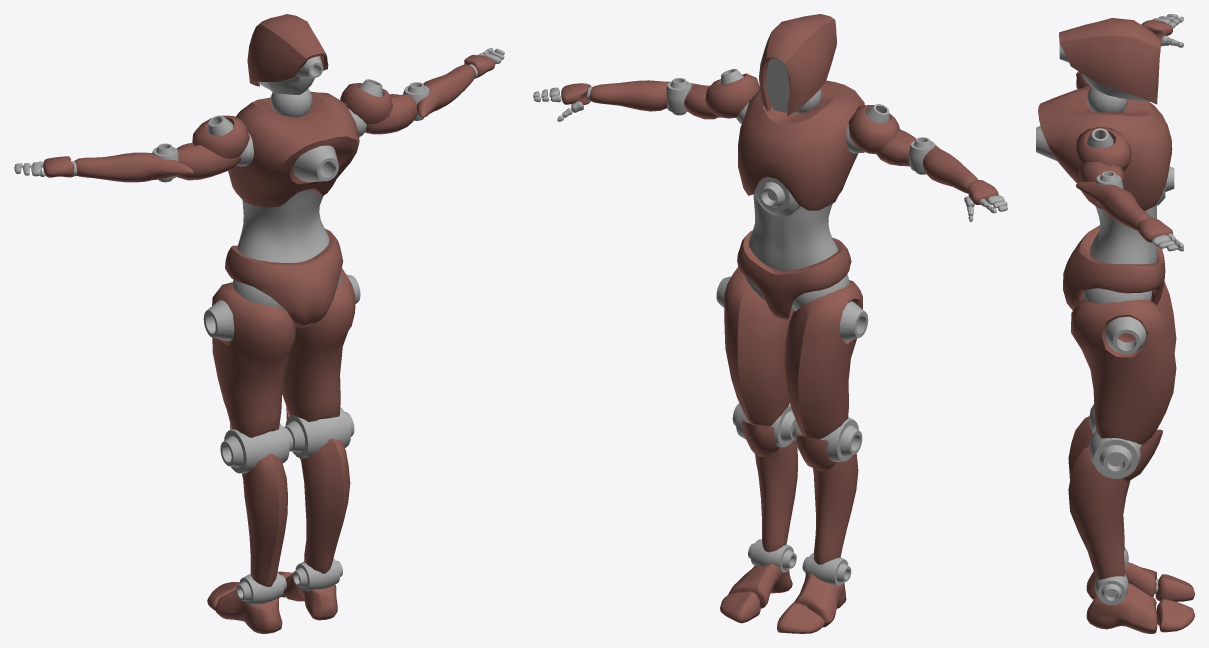
File: Drift Girl Paint.fbx
3 renders of one model, left to right at view 1: azimuth 30°, elevation 25°; view 2: azimuth 150°, elevation 25°; view 3: azimuth 270°, elevation 25°, orthographic. The views are drawn at different scales.
Parts seen in each view (by area): view 1: polySurface12, polySurface198, polySurface199, polySurface13, RetoppoHead, BaseBody1, polySurface193, polySurface192, polySurface228, polySurface226, polySurface229, polySurface196 (+9 smaller); view 2: polySurface12, polySurface198, polySurface199, RetoppoHead, polySurface192, BaseBody1, polySurface193, polySurface13, polySurface228, polySurface229, polySurface227, polySurface190 (+12 smaller); view 3: polySurface199, polySurface12, RetoppoHead, polySurface193, polySurface13, BaseBody1, polySurface191, polySurface229, polySurface197, polySurface227, polySurface195, polySurface187 (+13 smaller).
Part boxes in pixels (x1,y1,x2,y2): polySurface12: (228, 91, 359, 207); polySurface198: (212, 282, 295, 437); polySurface199: (282, 268, 355, 421); polySurface13: (225, 228, 343, 327); RetoppoHead: (247, 14, 328, 94); BaseBody1: (237, 190, 329, 262); polySurface193: (286, 407, 350, 573); polySurface192: (230, 423, 287, 586); polySurface228: (176, 115, 249, 180); polySurface226: (74, 152, 193, 182); polySurface229: (340, 83, 417, 134); polySurface196: (220, 423, 292, 473); polySurface12: (738, 80, 864, 210); polySurface198: (784, 280, 862, 439); polySurface199: (724, 267, 793, 426); RetoppoHead: (759, 14, 836, 116); polySurface192: (796, 433, 858, 564); BaseBody1: (749, 194, 838, 270); polySurface193: (741, 420, 797, 552); polySurface13: (737, 230, 851, 319); polySurface228: (848, 105, 916, 166); polySurface229: (684, 73, 759, 119); polySurface227: (589, 80, 700, 111); polySurface190: (794, 573, 846, 627); polySurface199: (1071, 299, 1176, 444); polySurface12: (1038, 85, 1172, 210); RetoppoHead: (1059, 18, 1160, 104); polySurface193: (1068, 429, 1162, 579); polySurface13: (1063, 225, 1165, 309); BaseBody1: (1090, 205, 1157, 264); polySurface191: (1086, 583, 1157, 633); polySurface229: (1076, 127, 1131, 183); polySurface197: (1089, 430, 1141, 478); polySurface227: (1076, 181, 1150, 230); polySurface195: (1105, 316, 1146, 354); polySurface187: (1156, 599, 1194, 632).
Bounding box in the file's own units: 89.44 × 105 × 25.59.
